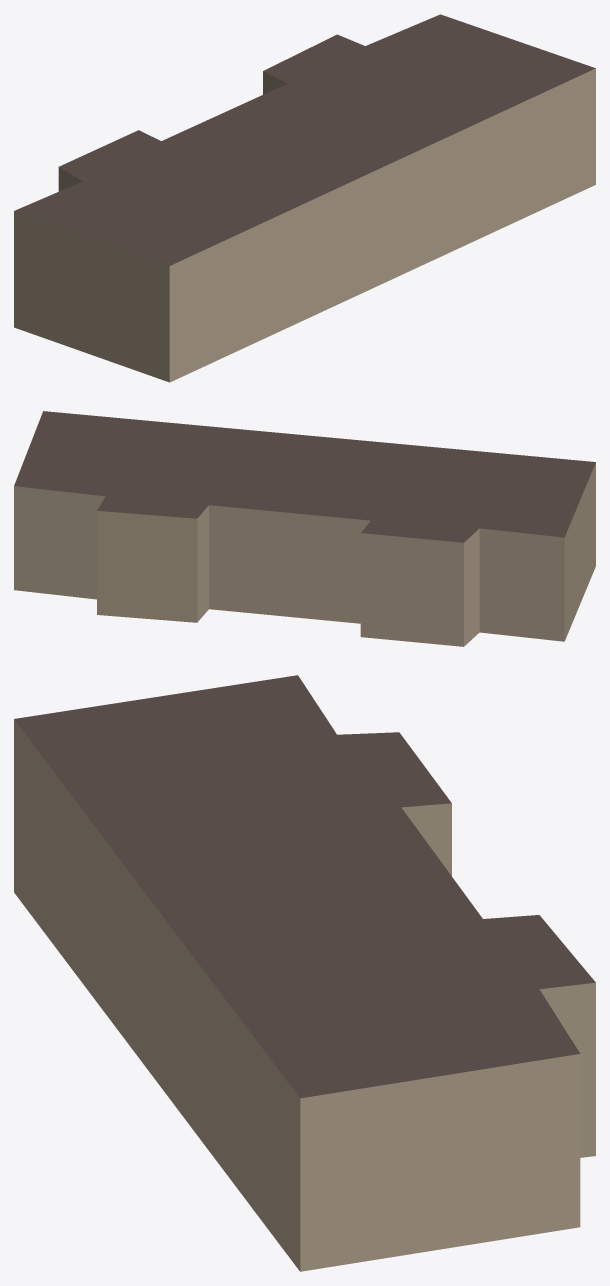
3 renders of one model, top to bottom at view 1: azimuth 30°, elevation 25°; view 2: azimuth 150°, elevation 25°; view 3: azimuth 270°, elevation 25°, orthographic. The views are drawn at different scales.
Visible parts, largest first — view 1: HP-w1512911265; view 2: HP-w1512911265; view 3: HP-w1512911265.
Boxes of the visible parts, x1,y1,x2,y2 form: HP-w1512911265: (14, 14, 595, 382); HP-w1512911265: (14, 411, 595, 646); HP-w1512911265: (14, 675, 595, 1271).
Size of the model in its own units: 47.11 by 9 by 27.37.
